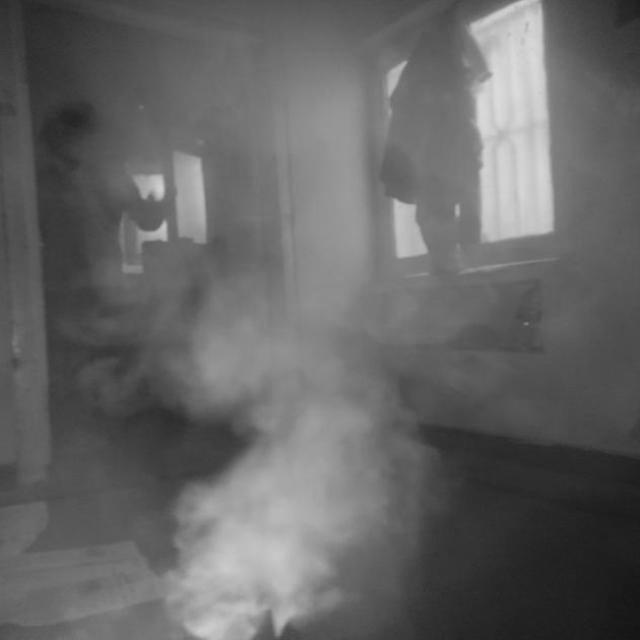fire: (102, 126, 530, 634)
